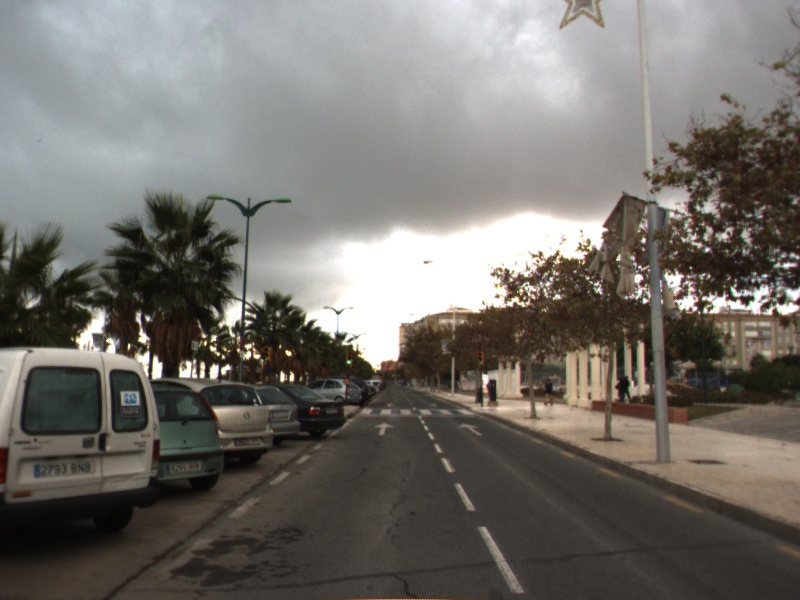STRAIGHT: (457, 422, 484, 437), (372, 421, 396, 437)
